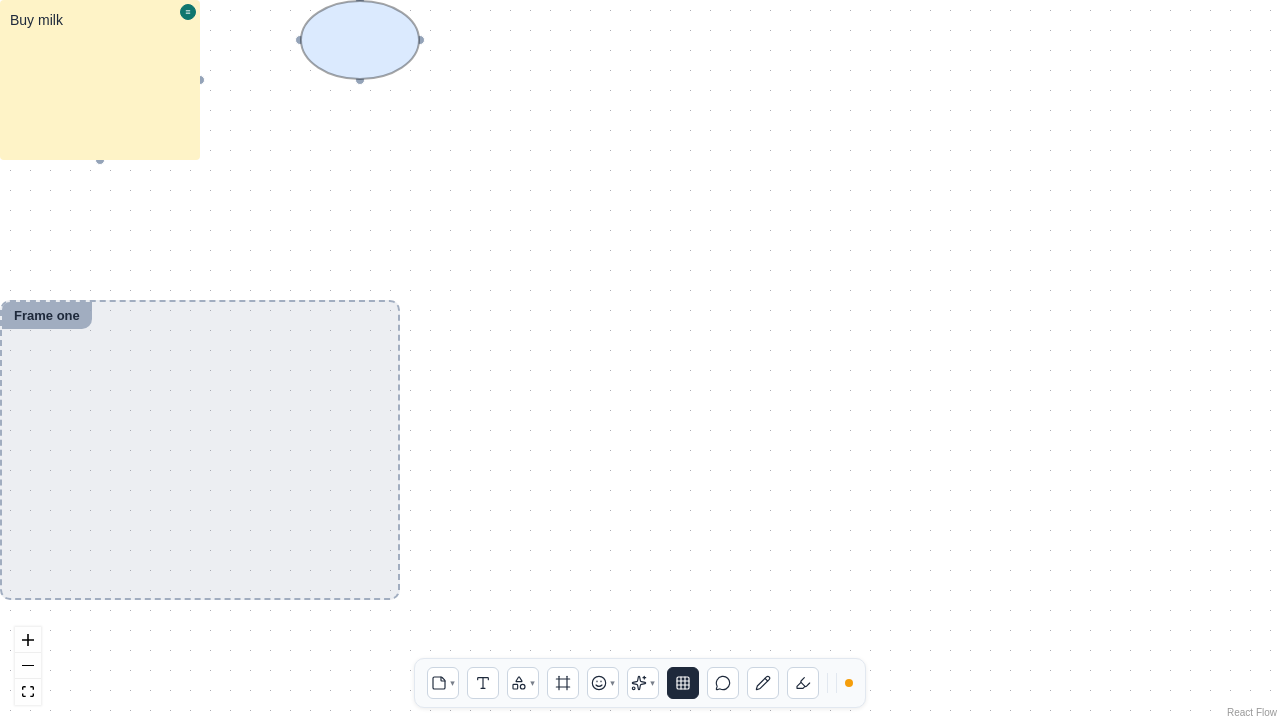
Test case: BoardCanvas › saving from the modal commits the description via updateNode (real store)
The width and height of the screenshot is (1280, 720).
What coordinates should you click on to do the following:
click the button titled "View description"
I would click on:
 (188, 12)
Its box is [180, 4, 196, 20].
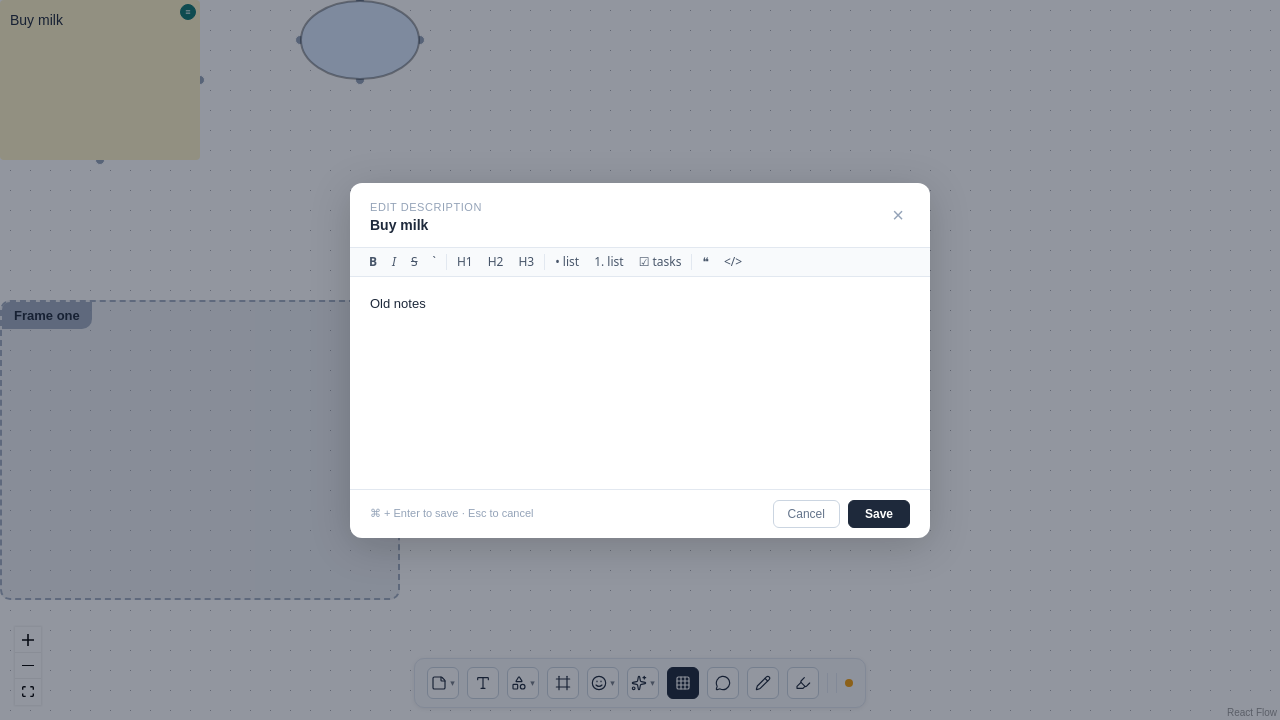
What coordinates should you click on to do the following:
click the button "Save"
I would click on:
 (879, 514)
Its box is [848, 500, 910, 528].
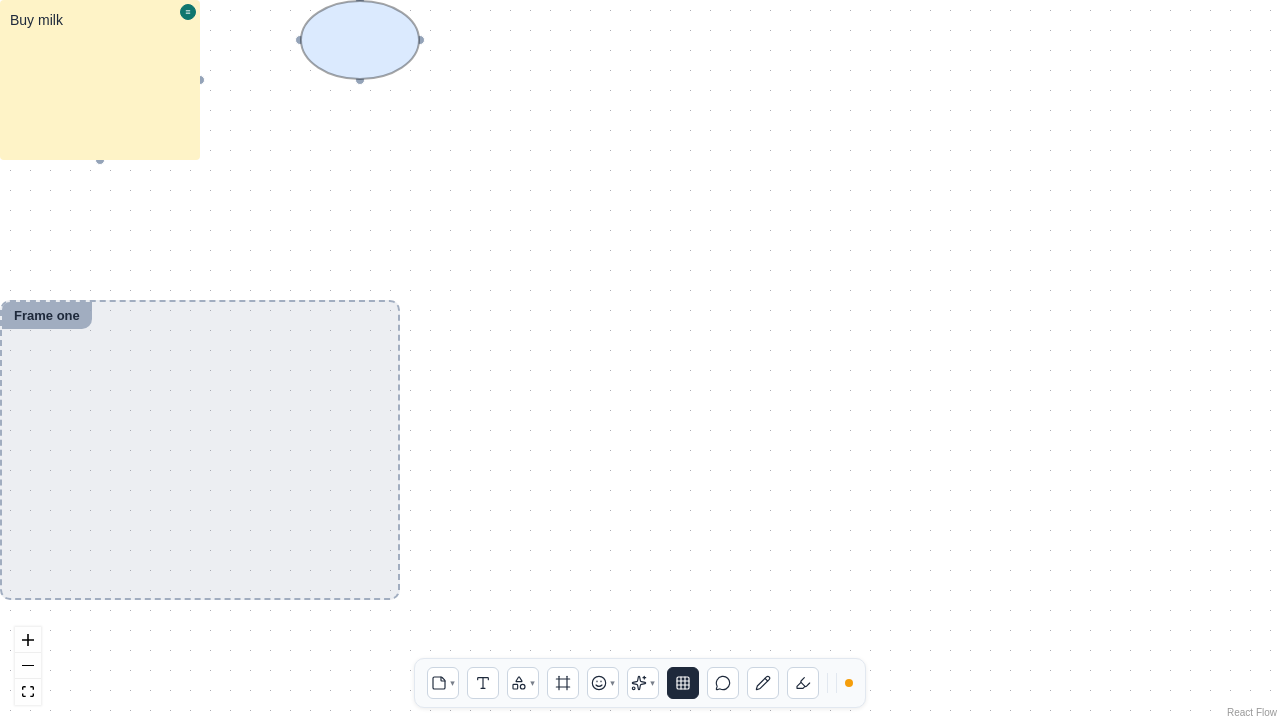
Result: the button "Save" is gone
